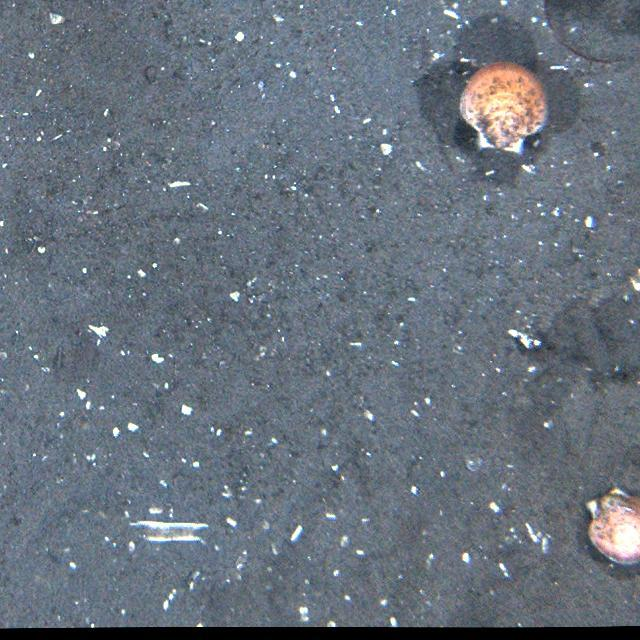scallop: (462, 60, 552, 158), (581, 481, 640, 570)
